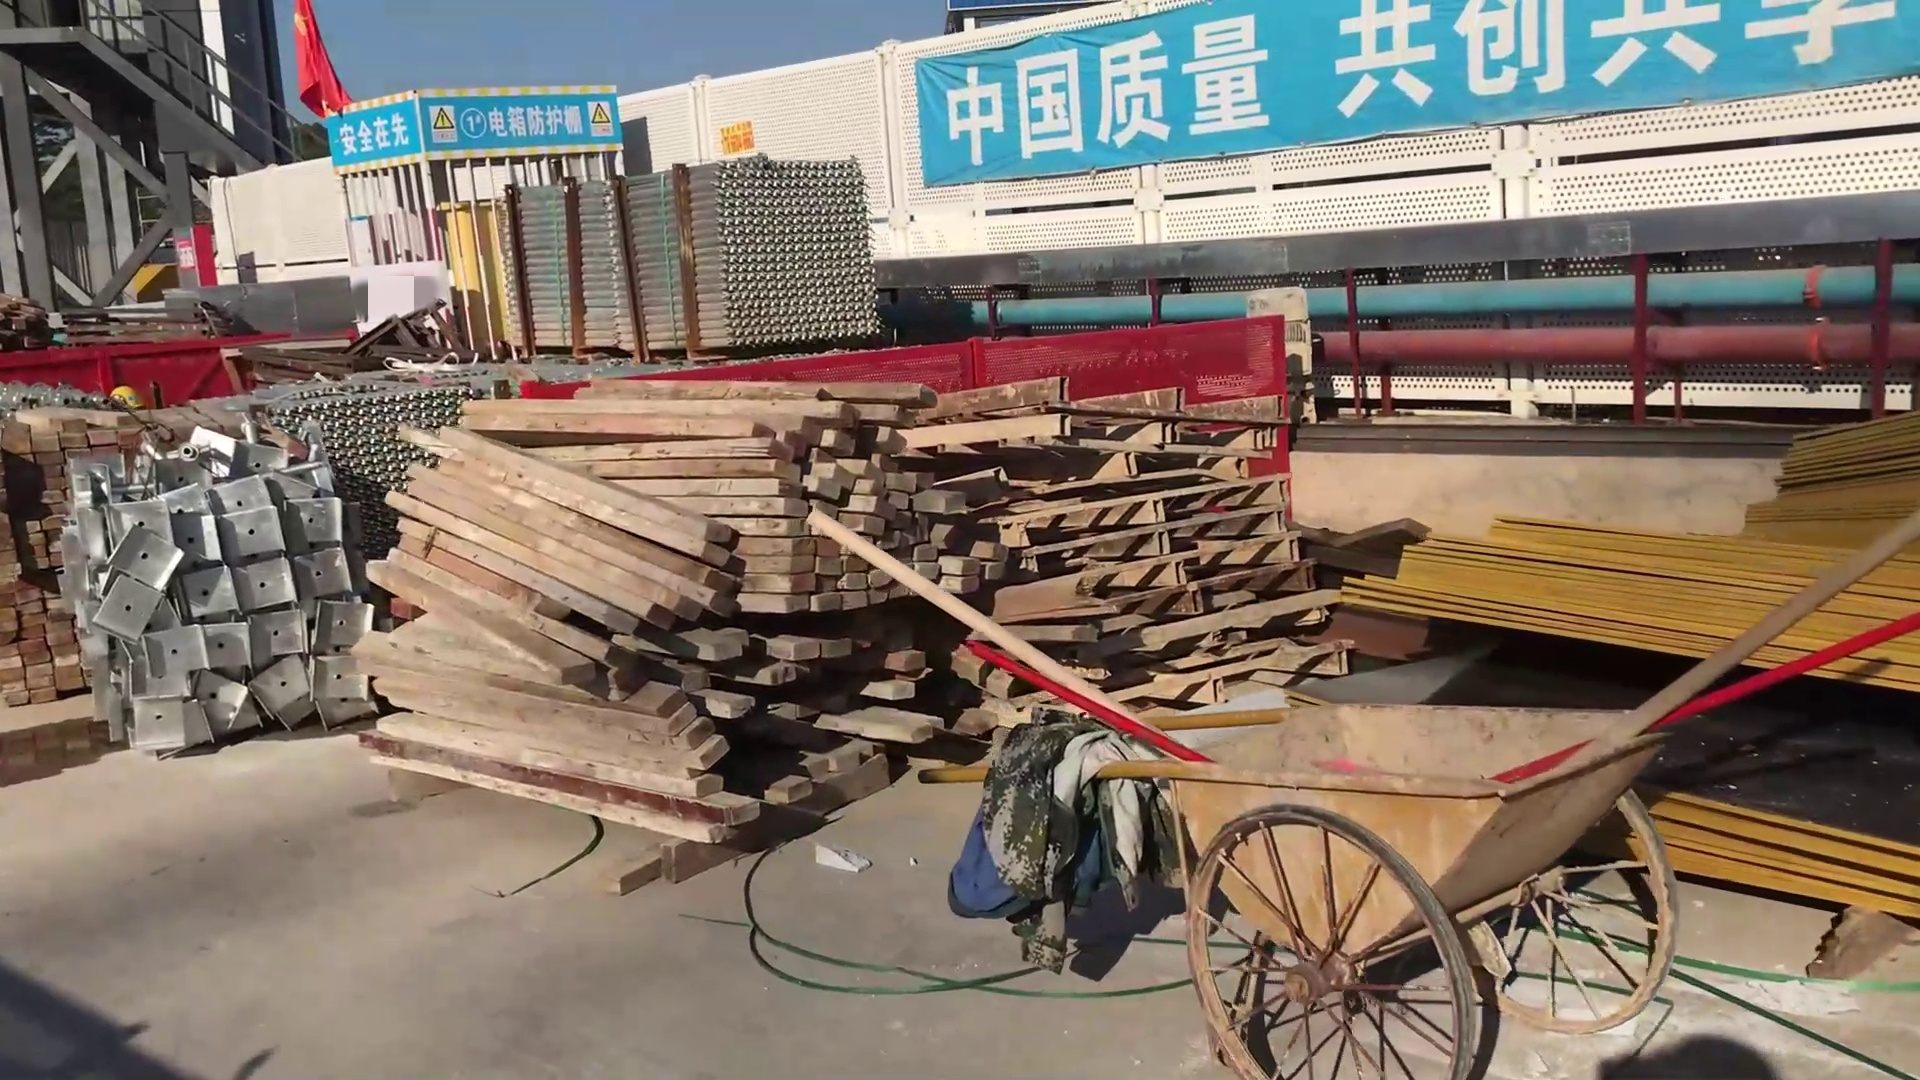board: (1335, 480, 1920, 723)
fence: (881, 316, 1284, 396)
handcart: (1124, 695, 1680, 1080)
scaffold: (485, 141, 882, 351), (293, 396, 429, 487)
slogan: (920, 1, 1913, 185), (324, 102, 419, 157)
wood: (378, 382, 1011, 849), (7, 406, 76, 698)
